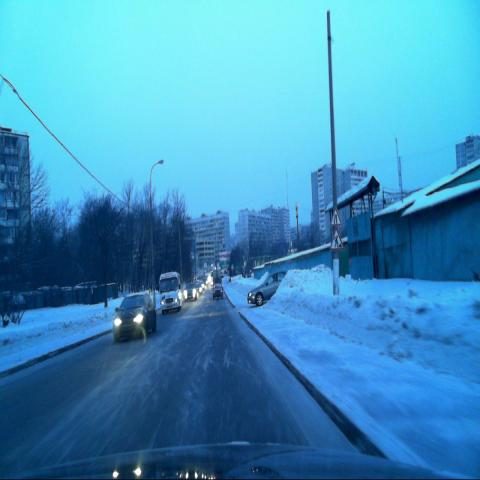1_25: (330, 228, 343, 250)
